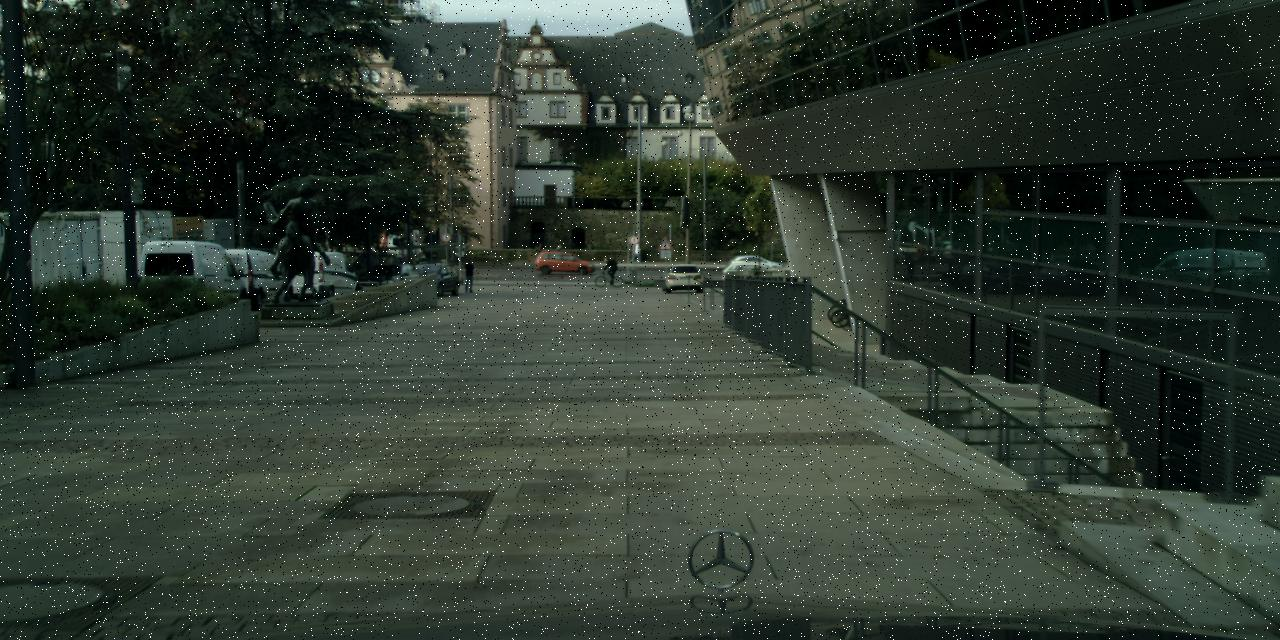ped: (463, 260, 475, 292), (632, 241, 640, 263), (604, 257, 612, 279), (536, 243, 542, 261), (556, 243, 562, 259)
